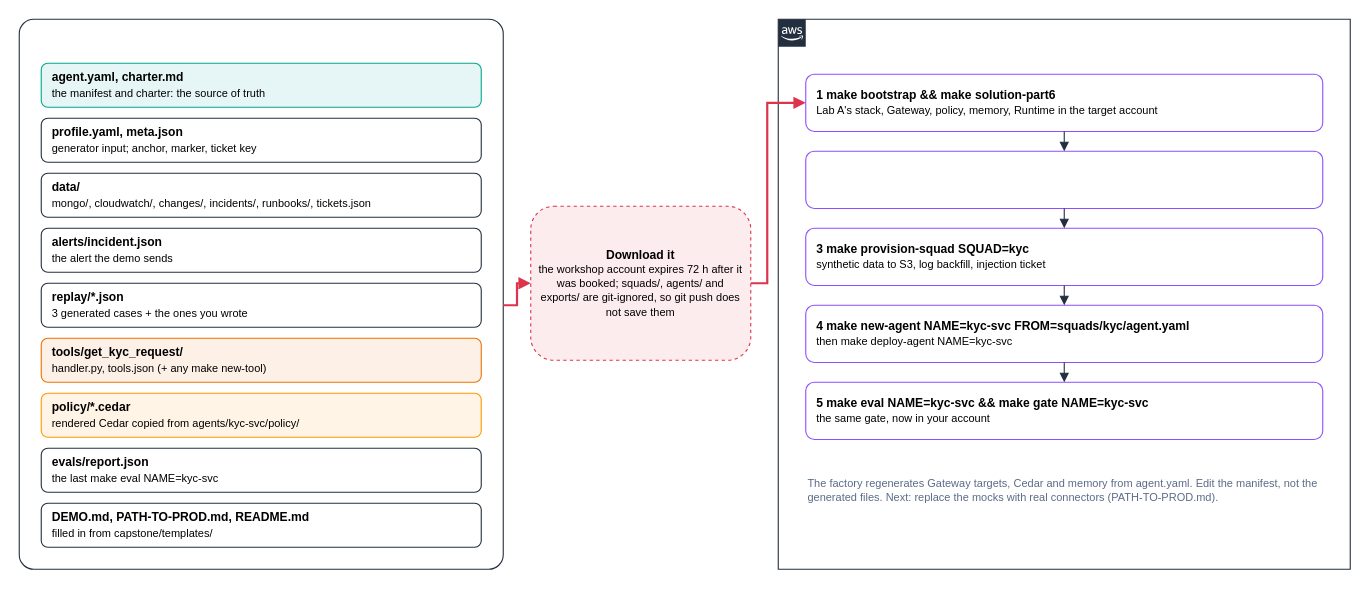
The diagram is 1370 pixels wide and 589 high, and some of its shapes have lost their labels. The box of each missing label's shape, as (x1, y1, x2, y2) in pixels:
2 copy the folder to squads/kyc/ in a clone of the workshop repo: (805, 150, 1323, 208)
Dezerv's own AWS account: (777, 18, 1350, 569)
exports/kyc-agent-skeleton.zip: (18, 18, 503, 569)
